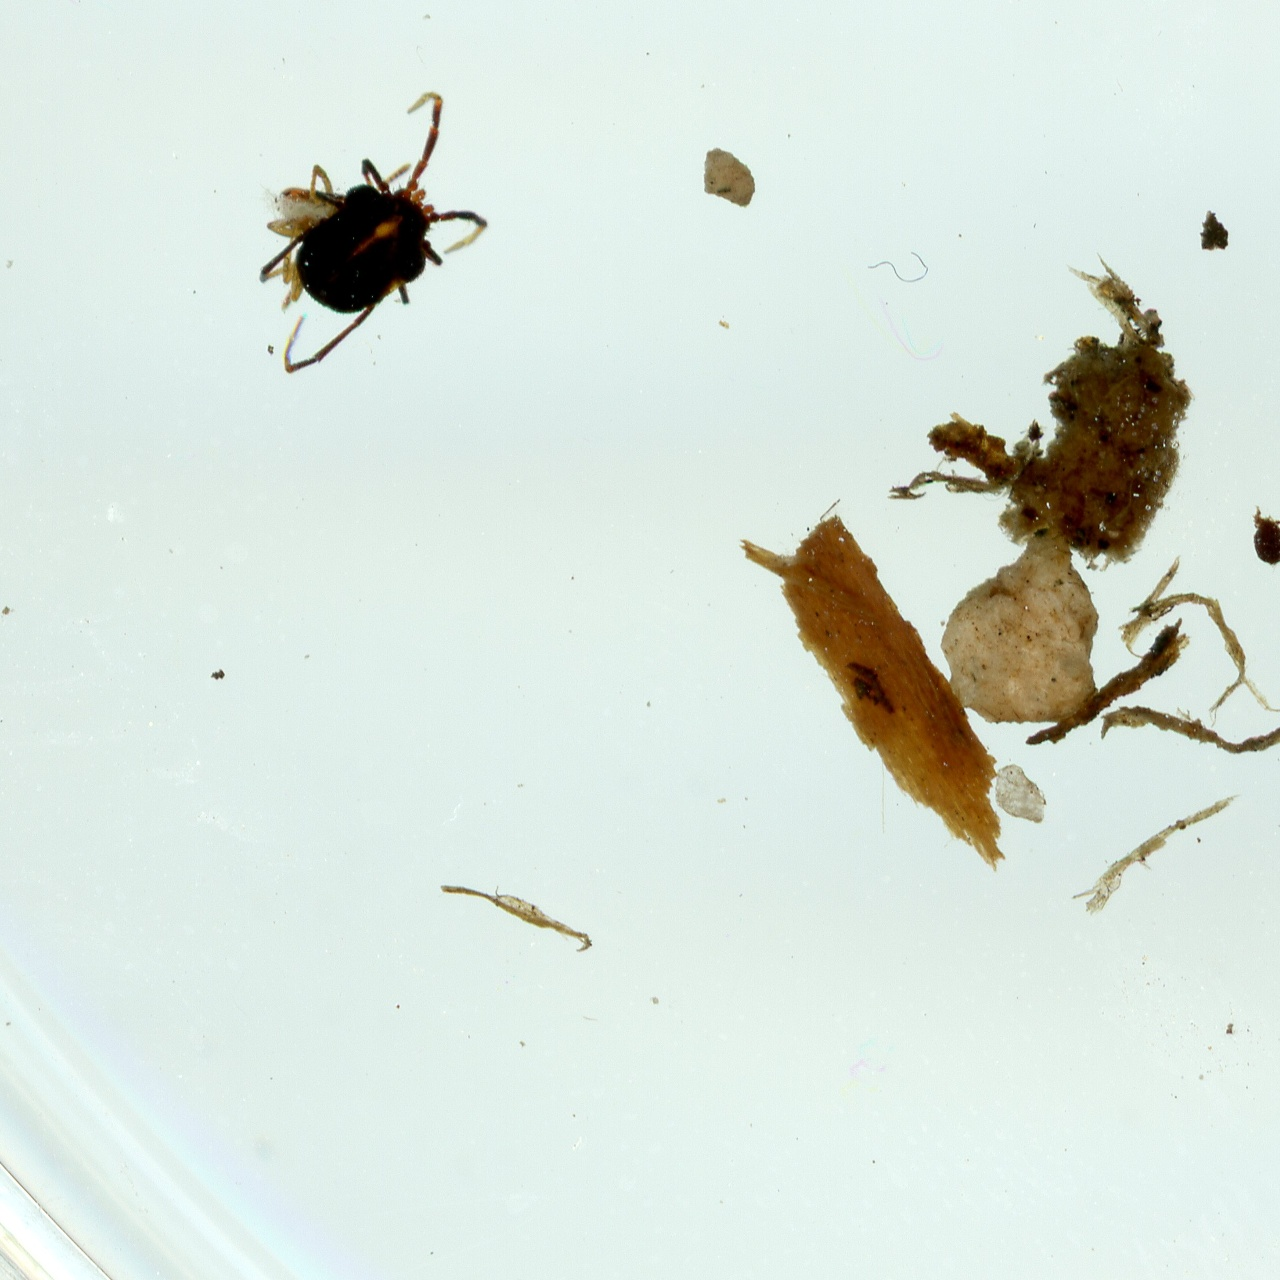arthropod: (253, 83, 492, 381), (1252, 503, 1280, 566)
